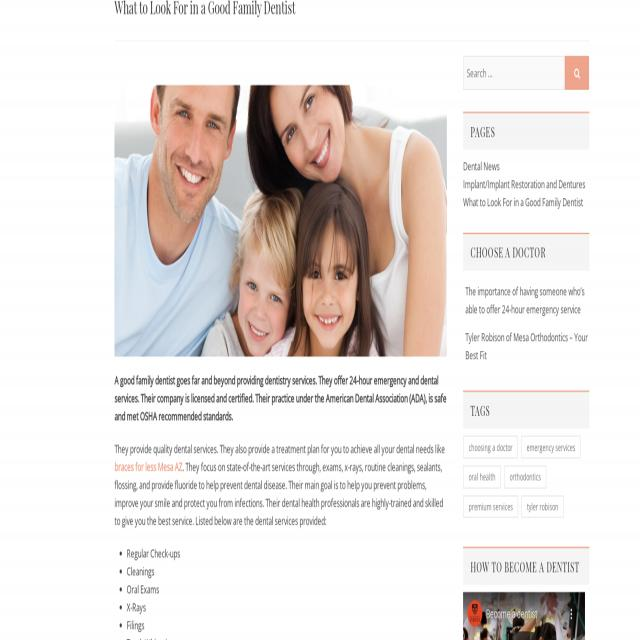button: (115, 85, 447, 357), (463, 592, 585, 640), (521, 436, 581, 459), (464, 436, 518, 459), (464, 496, 518, 518), (522, 496, 564, 518), (504, 466, 546, 487), (565, 56, 589, 90), (463, 466, 501, 487), (468, 600, 482, 626), (566, 606, 577, 624)
field: (463, 56, 565, 90)
